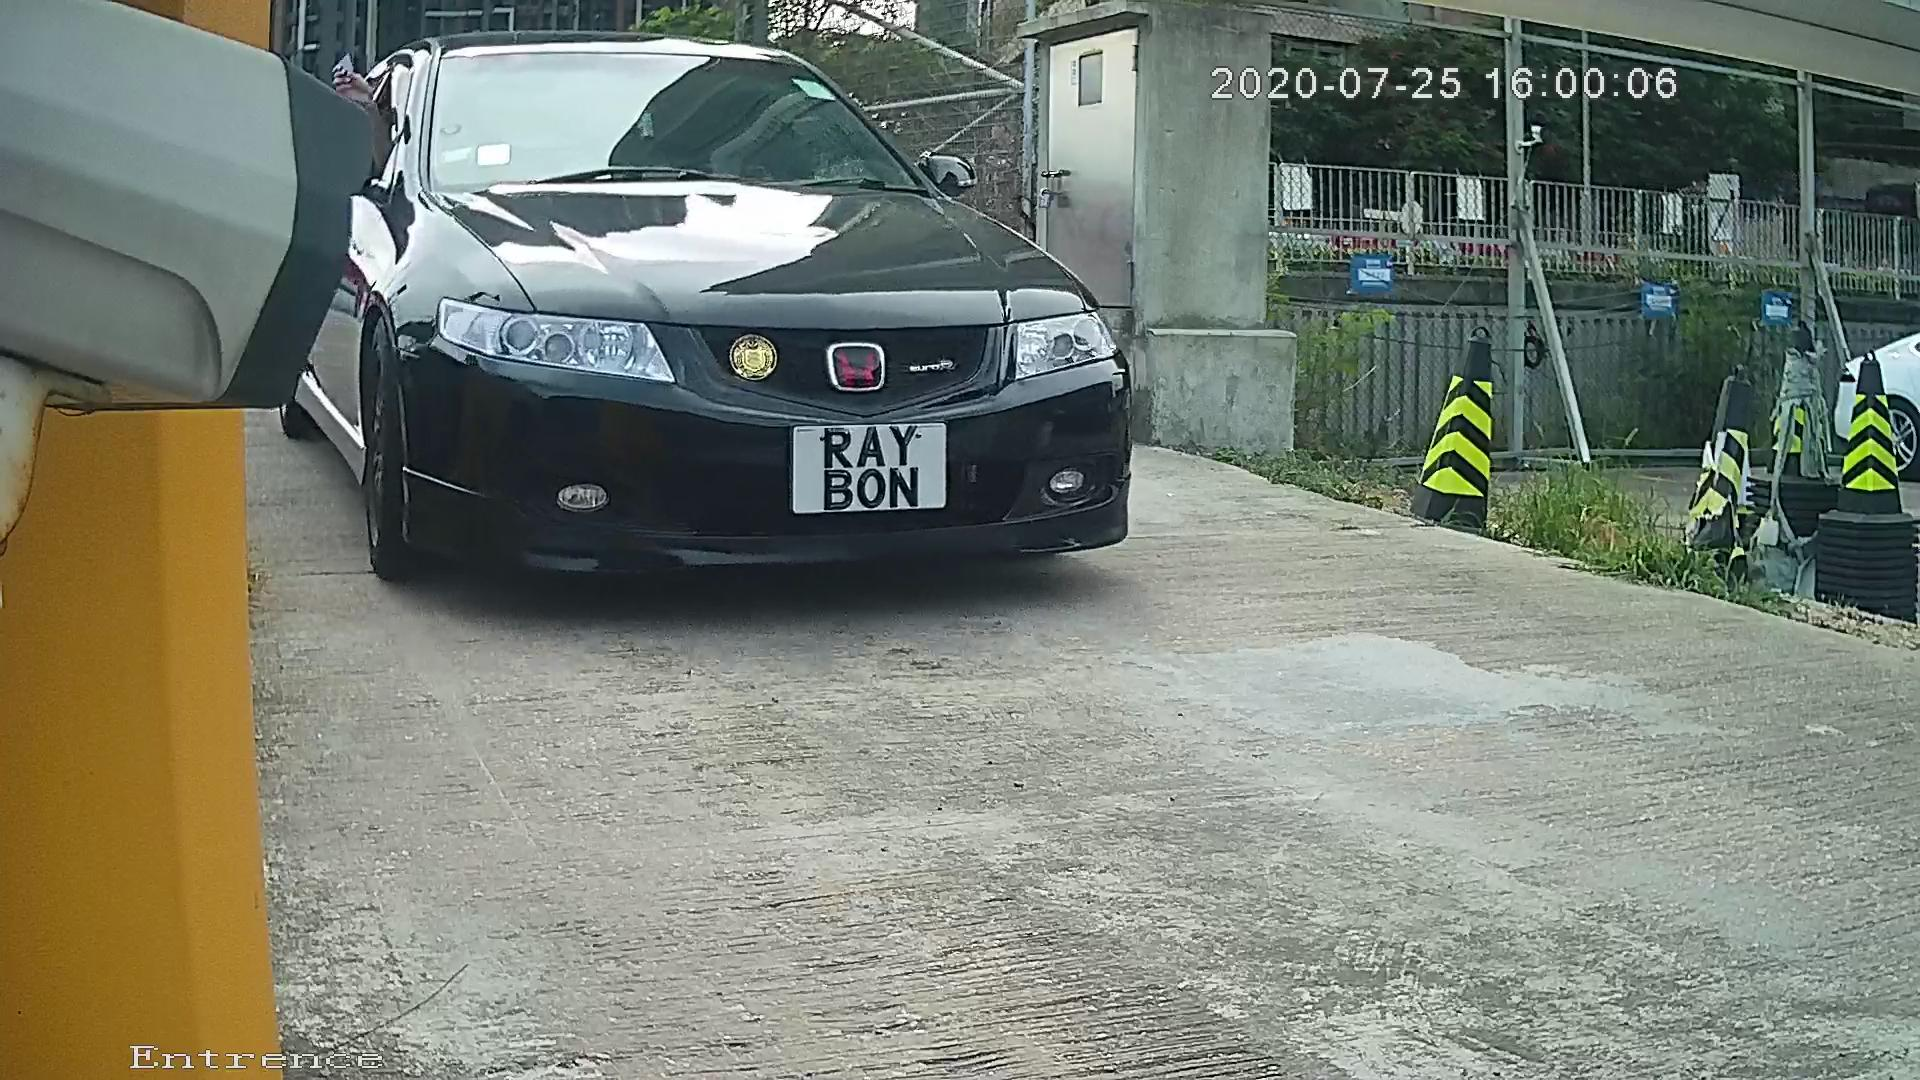License Plate: (763, 410, 961, 521)
